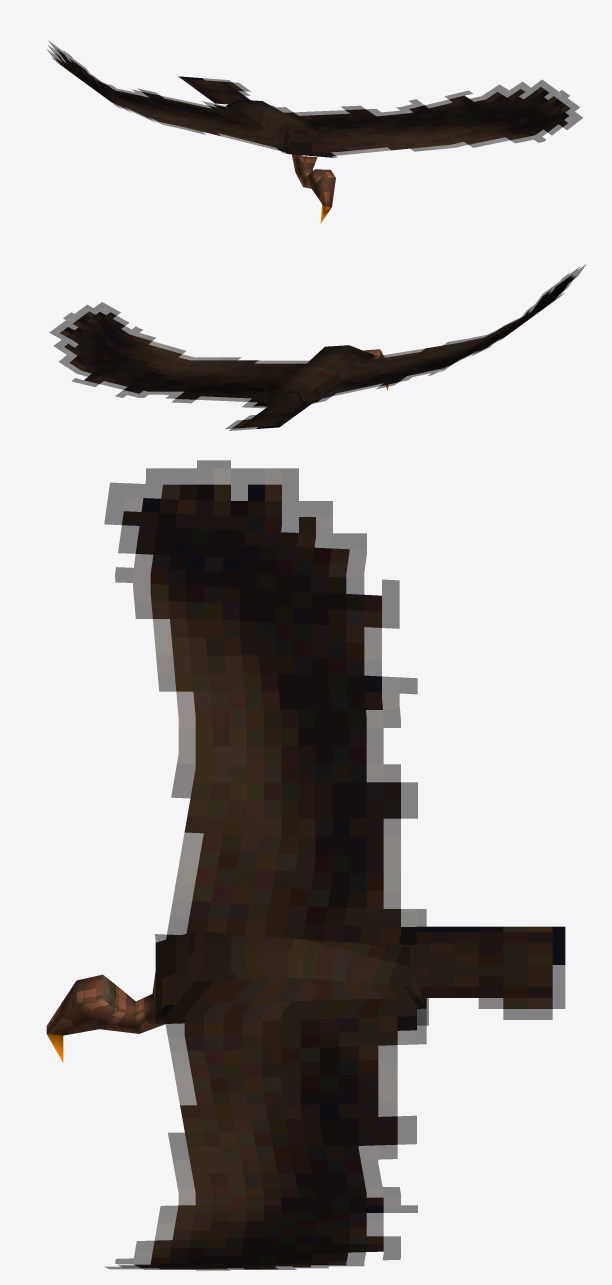
3 views of the same model, one above another, from view 1: azimuth 30°, elevation 25°; view 2: azimuth 150°, elevation 25°; view 3: azimuth 270°, elevation 25° (orthographic). The views are drawn at different scales.
Visible parts, largest first — view 1: Slim_obj_065; view 2: Slim_obj_065; view 3: Slim_obj_065.
Boxes of the visible parts, <box> form: Slim_obj_065: <box>47,40,582,223</box>; Slim_obj_065: <box>49,264,585,430</box>; Slim_obj_065: <box>46,460,565,1270</box>.
Size of the model in its own units: 0.6816 by 0.2559 by 0.3066.
3 materials, 3 textured.
